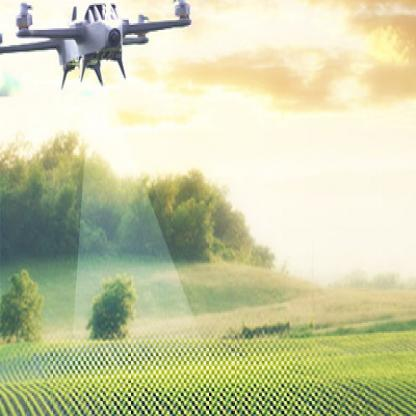drone: (1, 2, 193, 78)
